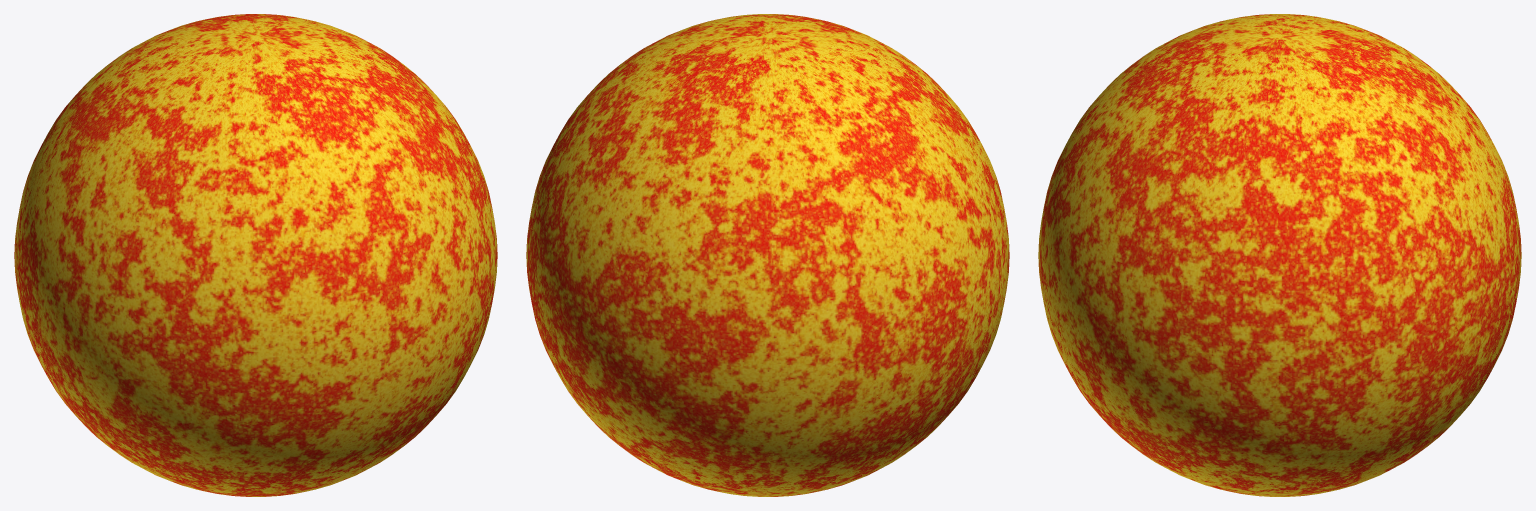
File: red.glb
The picture shows the model from 3 angles, left to right: view 1: azimuth 30°, elevation 25°; view 2: azimuth 150°, elevation 25°; view 3: azimuth 270°, elevation 25°; orthographic projection.
Parts seen in each view (by area): view 1: Сфера.010; view 2: Сфера.010; view 3: Сфера.010.
Part boxes in pixels (<box>): Сфера.010: <box>14,14,497,496</box>; Сфера.010: <box>526,14,1009,496</box>; Сфера.010: <box>1038,14,1521,496</box>.
Size of the model in its own units: 1.99 by 2 by 2.
Materials: 2 (1 with a texture image).
